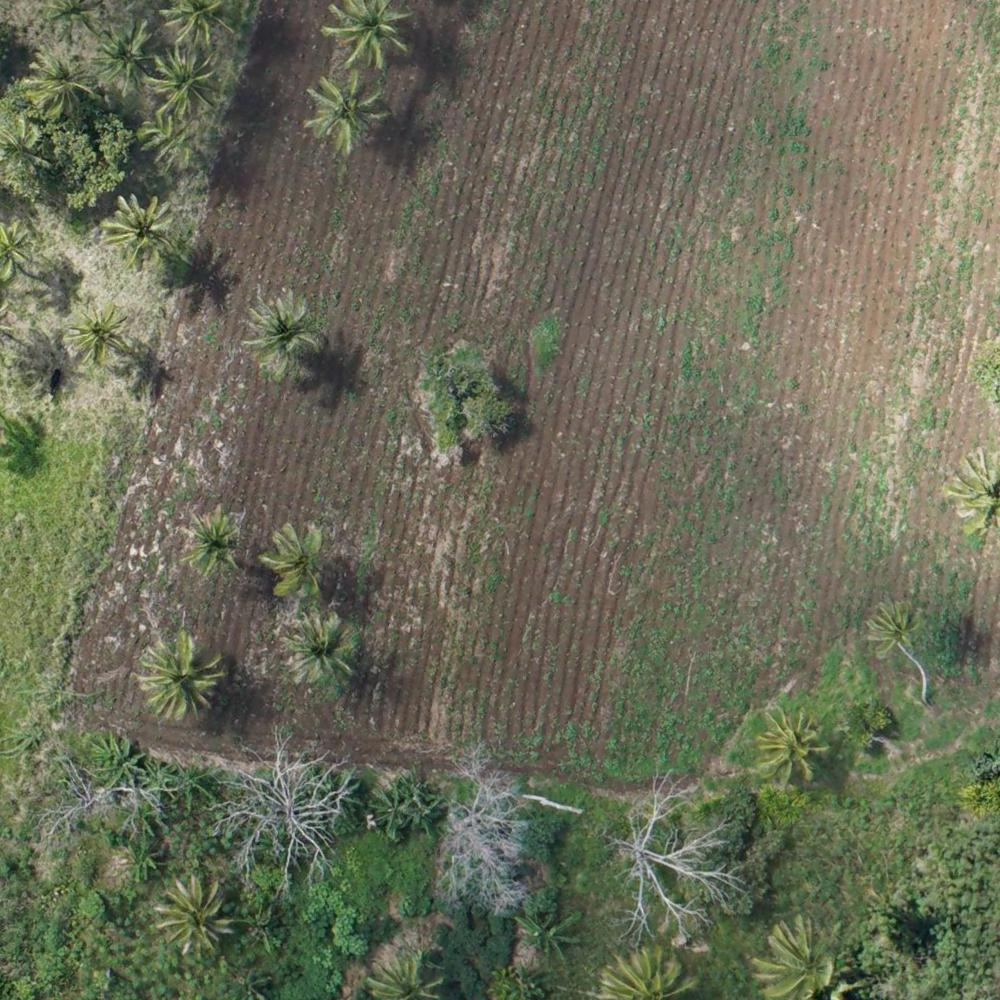Palm: (749, 922, 842, 997), (137, 634, 222, 716), (305, 67, 389, 148), (154, 880, 232, 955), (247, 291, 319, 369), (321, 1, 409, 64), (26, 47, 96, 123), (284, 614, 358, 683), (149, 49, 222, 118), (104, 193, 173, 265), (757, 712, 830, 780), (267, 524, 329, 598), (185, 508, 241, 580), (95, 22, 159, 85), (135, 111, 201, 167), (866, 597, 925, 654), (68, 302, 125, 360), (1, 118, 51, 173)
